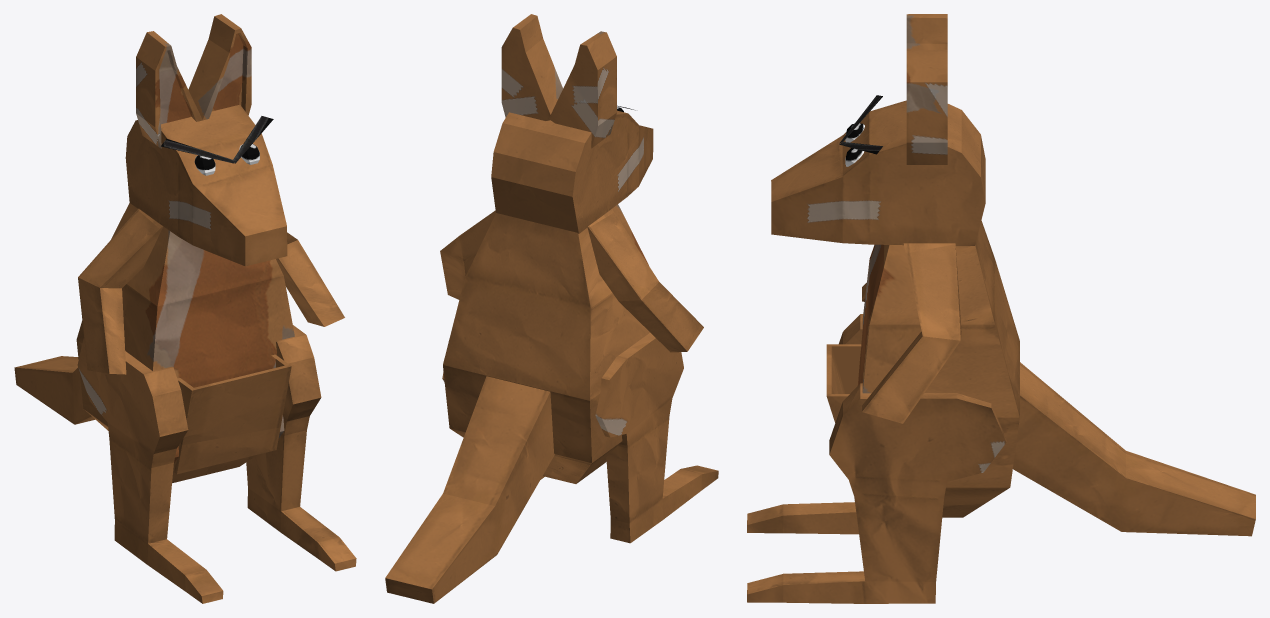
The model's file is Kangaroo (3).fbx.
3 views of the same model, side by side, from view 1: azimuth 30°, elevation 25°; view 2: azimuth 150°, elevation 25°; view 3: azimuth 270°, elevation 25° (orthographic). The views are drawn at different scales.
Parts seen in each view (by area): view 1: Kangaroo; view 2: Kangaroo; view 3: Kangaroo.
Part boxes in pixels (x1,y1,x2,y2): Kangaroo: (14,14,356,603); Kangaroo: (385,14,718,603); Kangaroo: (747,14,1255,603).
Size of the model in its own units: 0.851 by 1.67 by 1.46.
